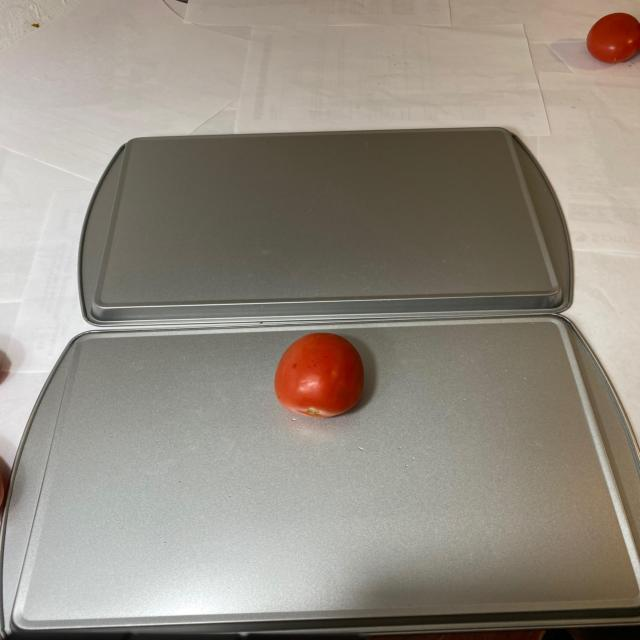tomato: (271, 331, 363, 419), (582, 6, 637, 82)
